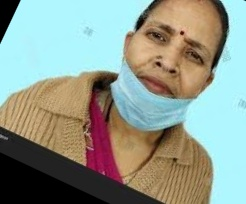mask_weared_incorrect: (118, 1, 221, 131)
